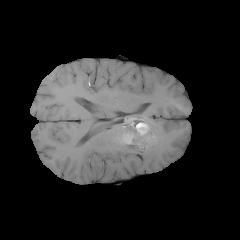glioma: (112, 114, 170, 161)
